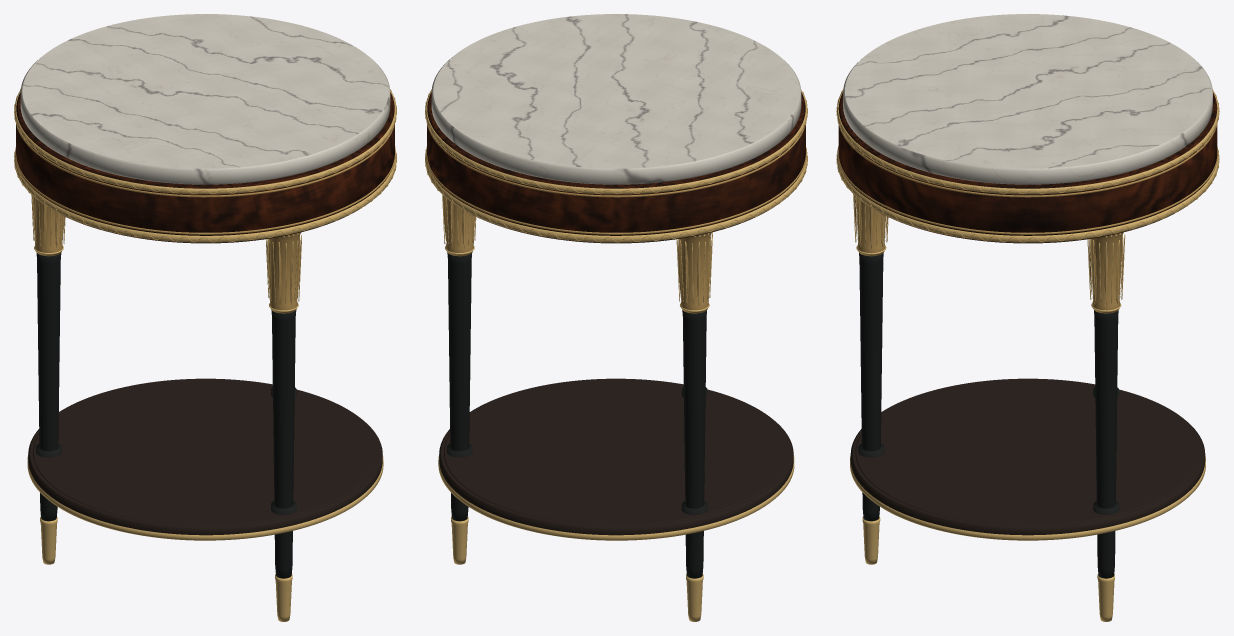
3 renders of one model, left to right at view 1: azimuth 30°, elevation 25°; view 2: azimuth 150°, elevation 25°; view 3: azimuth 270°, elevation 25°, orthographic.
Visible parts, largest first — view 1: Madison side table | salon-5 web batch; view 2: Madison side table | salon-5 web batch; view 3: Madison side table | salon-5 web batch.
Boxes of the visible parts, x1,y1,x2,y2 form: Madison side table | salon-5 web batch: (14, 14, 396, 621); Madison side table | salon-5 web batch: (425, 14, 807, 621); Madison side table | salon-5 web batch: (836, 14, 1219, 621).
Bounding box in the file's own units: 0.5011 × 0.68 × 0.5016.
6 materials, 2 textured.
